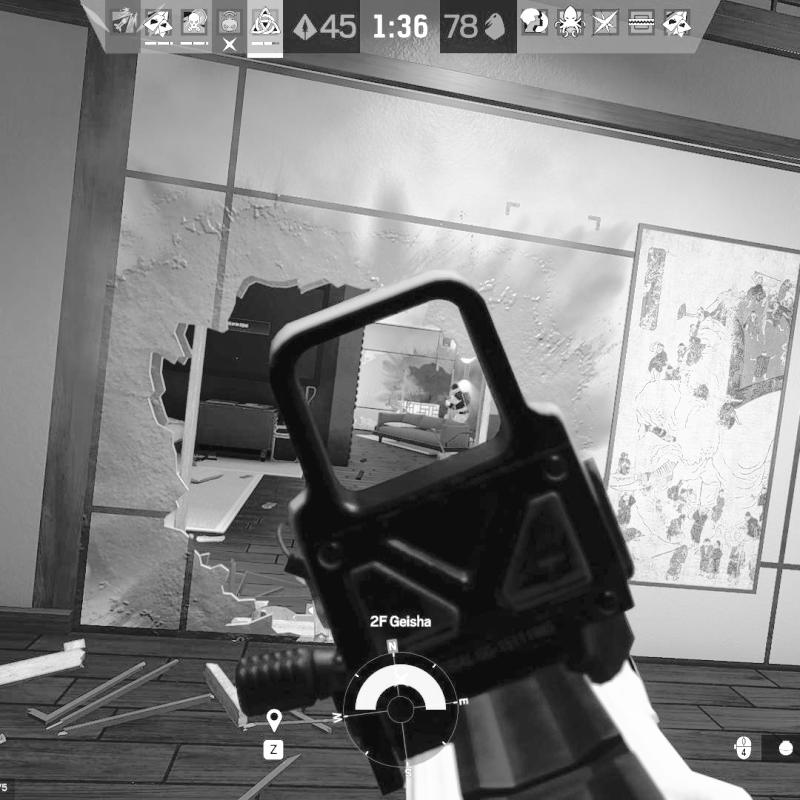Character: (444, 381, 471, 425)
Head: (450, 382, 458, 392)
